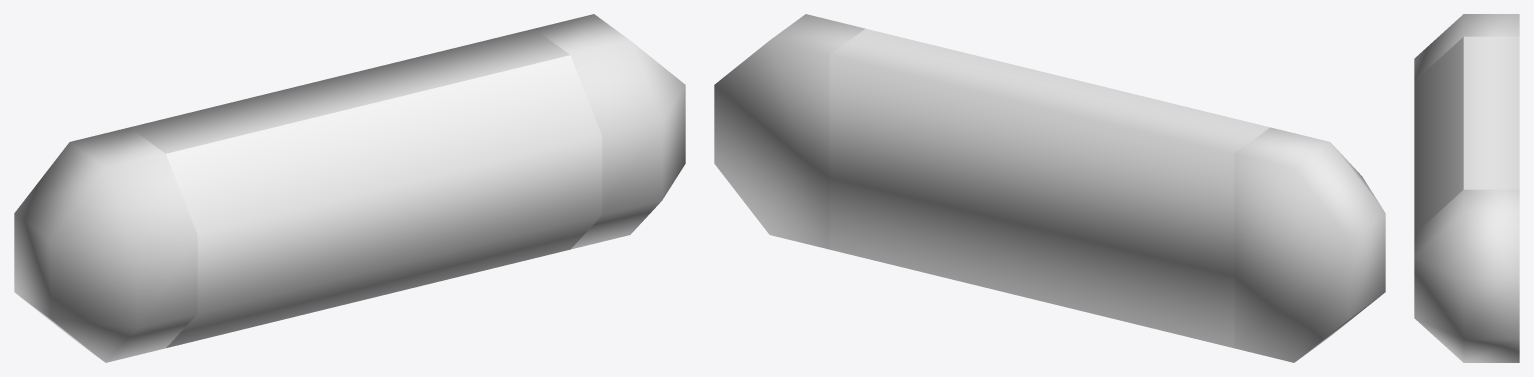
Rendered from light_a.fbx.
The picture shows the model from 3 angles, left to right: view 1: azimuth 30°, elevation 25°; view 2: azimuth 150°, elevation 25°; view 3: azimuth 270°, elevation 25°; orthographic projection. The views are drawn at different scales.
Visible parts, largest first — view 1: light_a; view 2: light_a; view 3: light_a.
Boxes of the visible parts, box(x1,y1,x2,y2) form: light_a: box(14, 14, 685, 362); light_a: box(714, 14, 1385, 362); light_a: box(1414, 14, 1519, 362).
Bounding box in the file's own units: 1 × 0.2927 × 0.1857.
